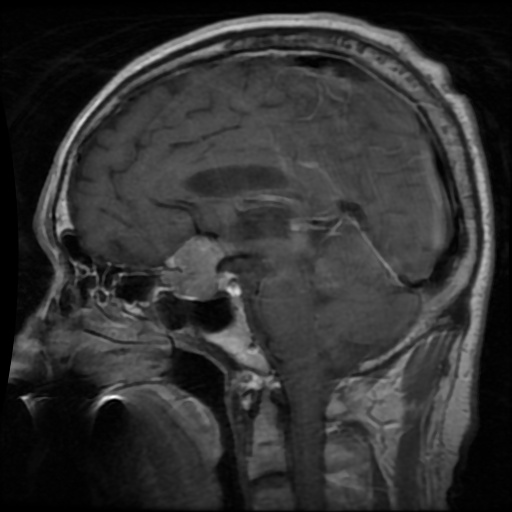pituitary: (164, 239, 229, 298)
